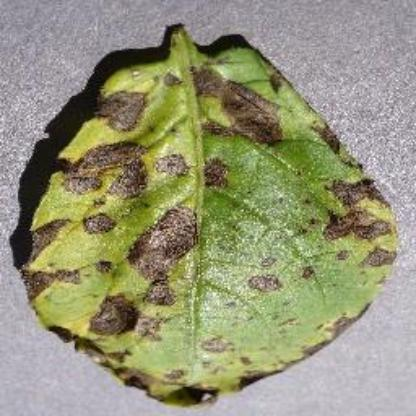Early-Blight: (19, 22, 404, 408)
